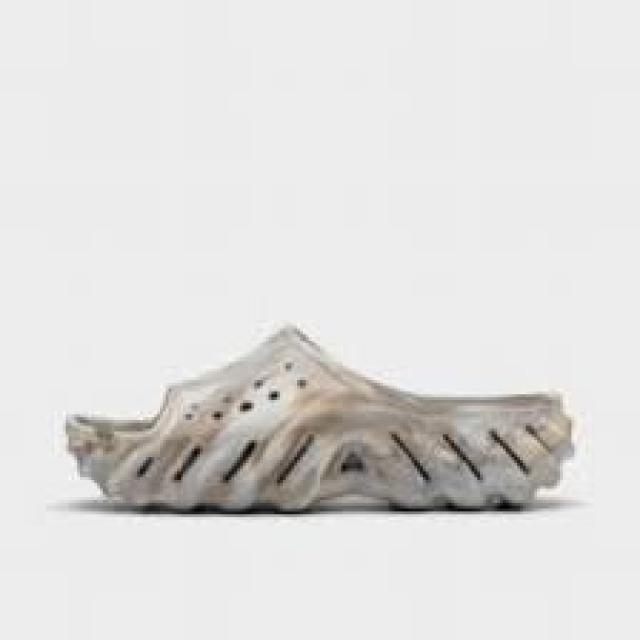shoe: (65, 327, 575, 513)
